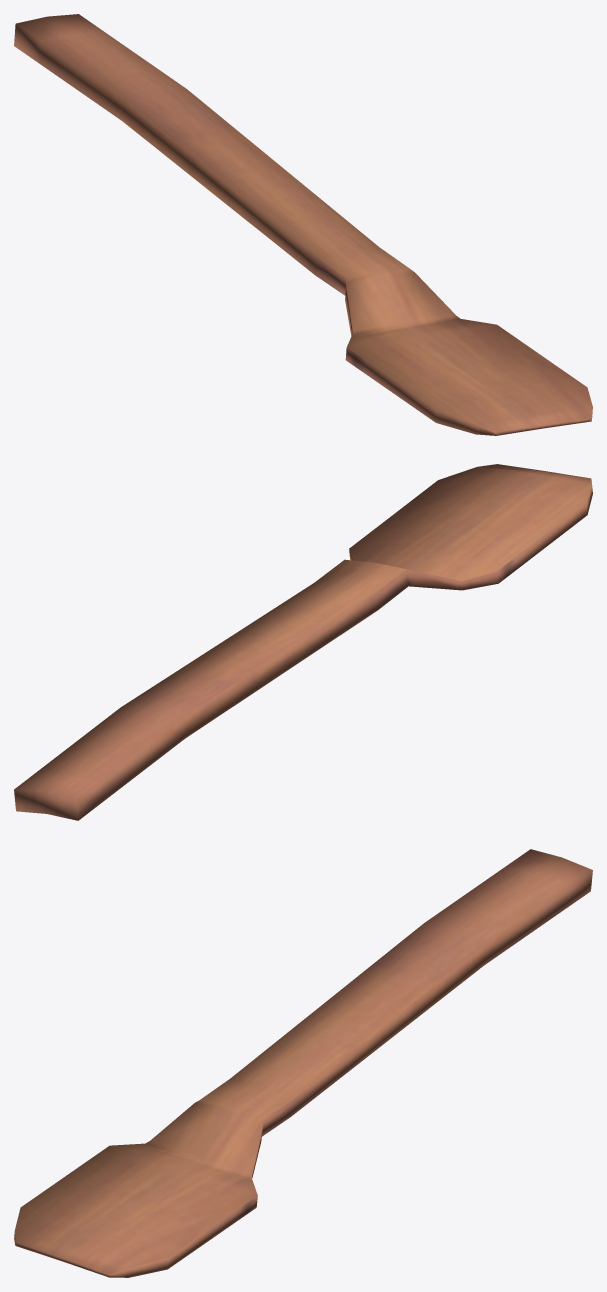
Rendered from wooden_spatula.glb.
3 renders of one model, top to bottom at view 1: azimuth 30°, elevation 25°; view 2: azimuth 150°, elevation 25°; view 3: azimuth 330°, elevation 25°, orthographic.
Visible parts, largest first — view 1: WoodenSpatula; view 2: WoodenSpatula; view 3: WoodenSpatula.
Part boxes in pixels (box(x1,y1,x2,y2)): WoodenSpatula: box(14, 14, 592, 435); WoodenSpatula: box(14, 464, 592, 820); WoodenSpatula: box(14, 849, 592, 1277).
Bounding box in the file's own units: 0.0569 × 0.0234 × 0.3264.
1 material, 1 textured.
